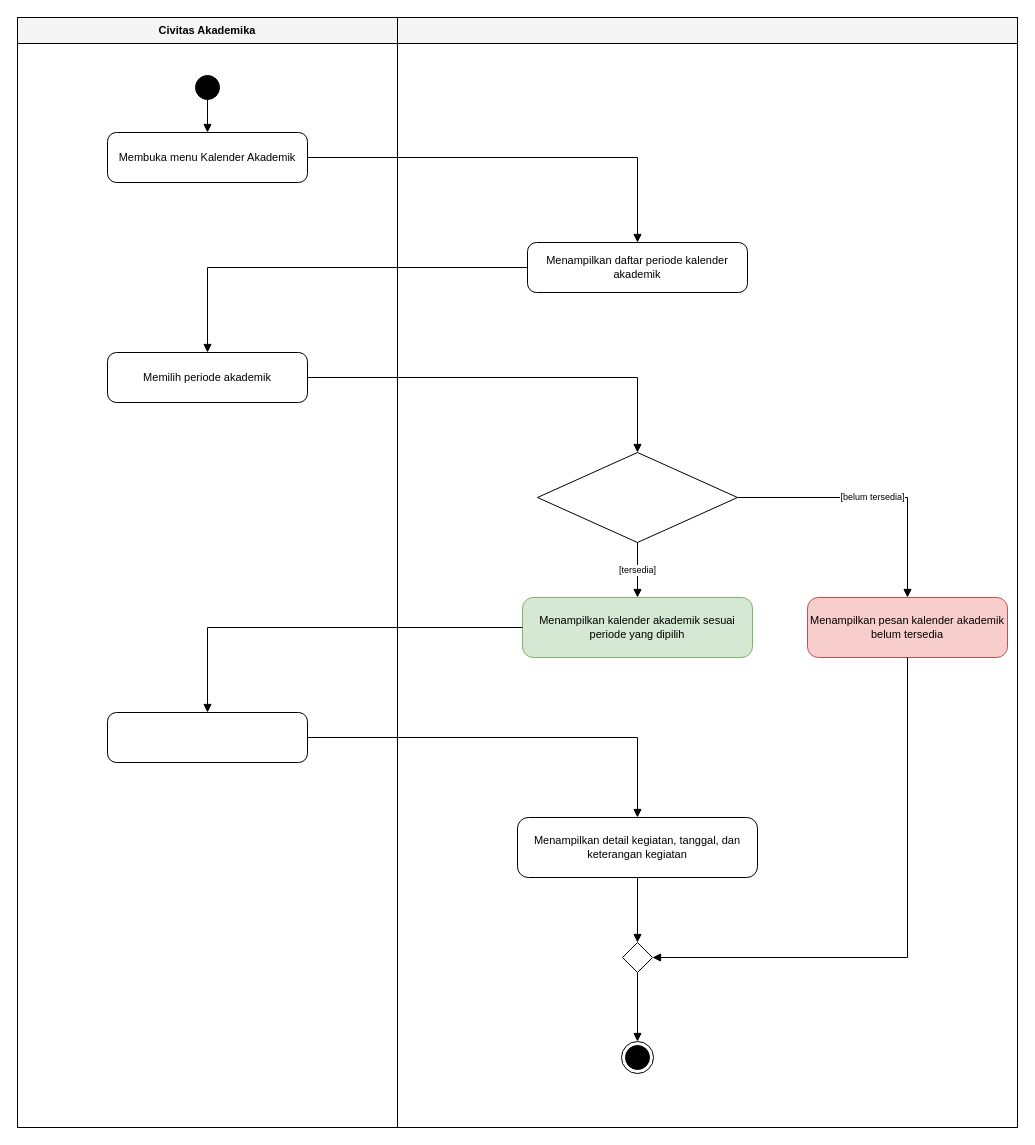
Image size: 1035x1145. Some labels were removed from this diagram. Each missing label, with the centre of its shape:
"Kalender akademik tersedia?" goes at point 637,497.
"Memilih salah satu kegiatan akademik" goes at point 207,737.
"Sistem" goes at point 707,30.
